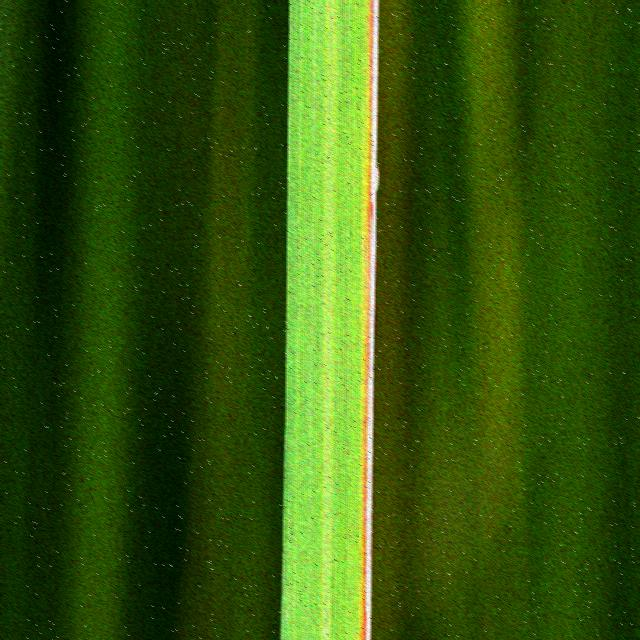BLB: (365, 0, 379, 640)
